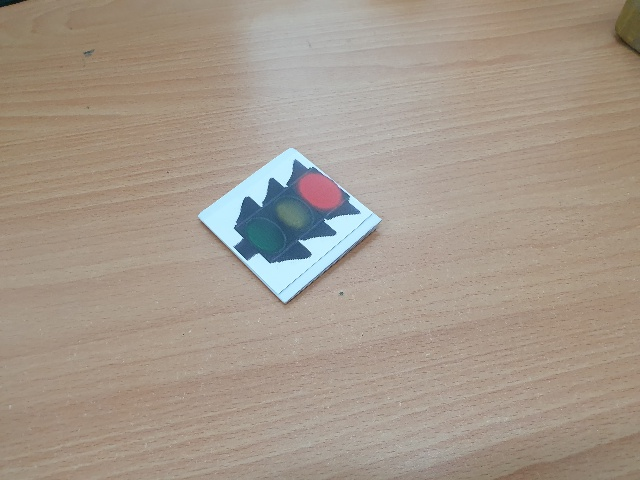Red: (234, 160, 360, 267)
